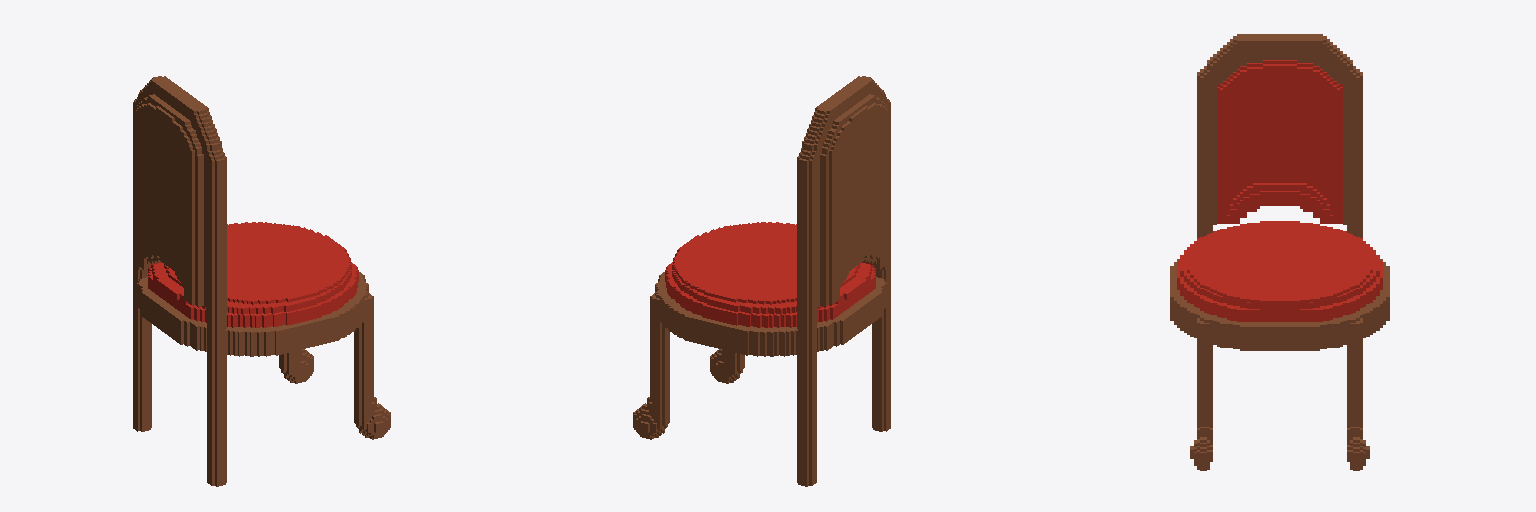
3 views of the same model, side by side, from view 1: azimuth 30°, elevation 25°; view 2: azimuth 150°, elevation 25°; view 3: azimuth 270°, elevation 25° (orthographic).
Parts seen in each view (by area): view 1: object 1; view 2: object 1; view 3: object 1.
Part boxes in pixels (left/top/right/bottom): object 1: left=133, top=76, right=390, bottom=486; object 1: left=633, top=76, right=890, bottom=486; object 1: left=1170, top=34, right=1389, bottom=470.
Bounding box in the file's own units: 6.6 × 12 × 6.6.
1 materials, 1 textured.